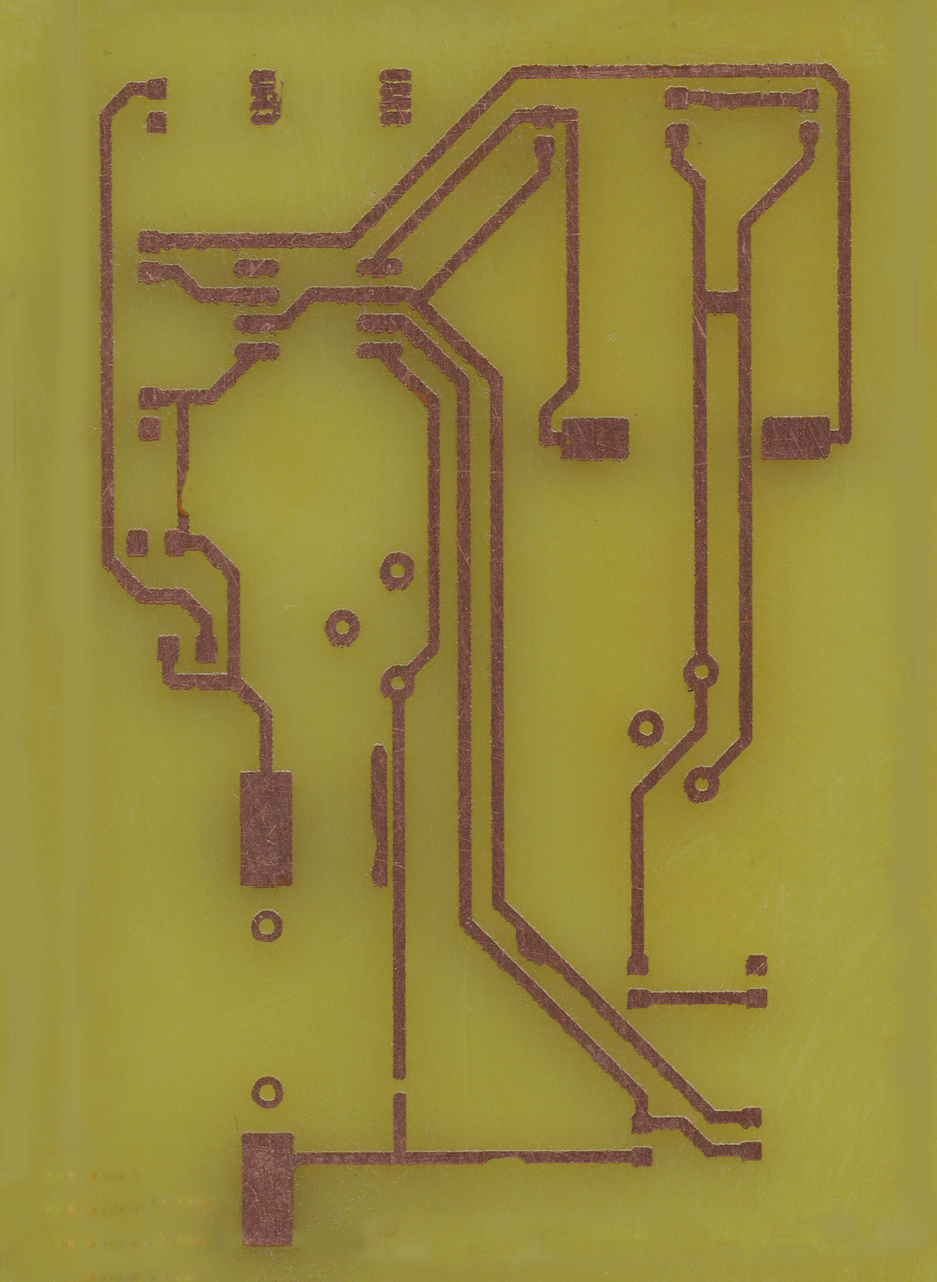mouse_bite: (477, 1146, 530, 1169), (174, 468, 193, 521)
open_circuit: (388, 1066, 410, 1103)
short: (688, 283, 754, 321)
spur: (513, 924, 552, 968)
spurious_copper: (370, 740, 390, 892)
